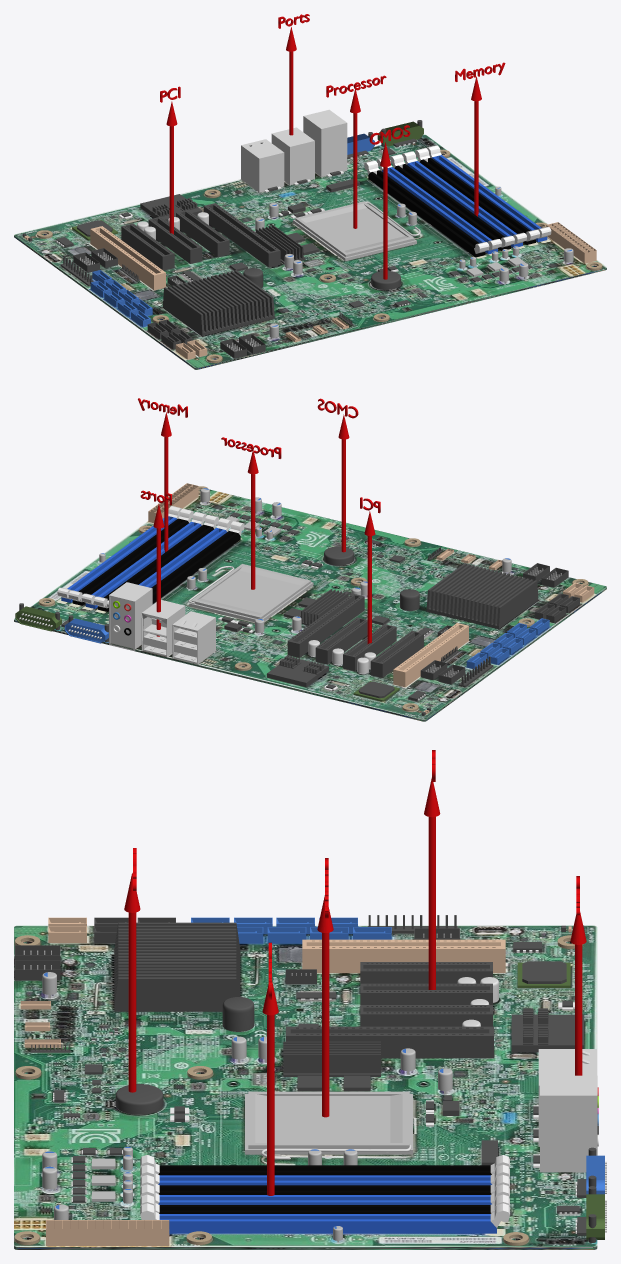
File: motherboard 1.fbx
3 views of the same model, one above another, from view 1: azimuth 30°, elevation 25°; view 2: azimuth 150°, elevation 25°; view 3: azimuth 270°, elevation 25° (orthographic). The views are drawn at different scales.
Visible parts, largest first — view 1: Box001, Box015, Box150, Box093, Box113, Box082, Box069, Box065, Box073, Box114, Box115, Box117 (+15 smaller); view 2: Box001, Box015, Box150, Box093, Box082, Box069, Box065, Box073, Box113, Box115, Box117, Box114 (+16 smaller); view 3: Box001, Box015, Box150, Box118, Box093, Box065, Box069, Box116, Box113, Box117, Box114, Box115 (+21 smaller).
Boxes of the visible parts, x1=… form: Box001: x1=14, y1=134, x2=606, y2=369; Box015: x1=163, y1=270, x2=274, y2=335; Box150: x1=293, y1=201, x2=416, y2=261; Box093: x1=303, y1=109, x2=347, y2=176; Box113: x1=364, y1=160, x2=489, y2=257; Box082: x1=241, y1=139, x2=284, y2=192; Box069: x1=203, y1=203, x2=280, y2=267; Box065: x1=90, y1=226, x2=165, y2=290; Box073: x1=271, y1=127, x2=314, y2=184; Box114: x1=390, y1=154, x2=514, y2=251; Box115: x1=415, y1=148, x2=539, y2=244; Box117: x1=402, y1=151, x2=526, y2=247; Box001: x1=14, y1=489, x2=606, y2=721; Box015: x1=426, y1=563, x2=538, y2=628; Box150: x1=189, y1=564, x2=313, y2=622; Box093: x1=109, y1=582, x2=152, y2=651; Box082: x1=172, y1=611, x2=215, y2=664; Box069: x1=287, y1=593, x2=364, y2=657; Box065: x1=393, y1=623, x2=468, y2=687; Box073: x1=141, y1=600, x2=185, y2=657; Box113: x1=151, y1=521, x2=244, y2=603; Box115: x1=68, y1=508, x2=193, y2=605; Box117: x1=81, y1=512, x2=206, y2=608; Box114: x1=94, y1=515, x2=218, y2=611; Box001: x1=14, y1=925, x2=597, y2=1249; Box015: x1=114, y1=922, x2=240, y2=1011; Box150: x1=245, y1=1091, x2=412, y2=1154; Box118: x1=140, y1=1203, x2=509, y2=1233; Box093: x1=540, y1=1075, x2=597, y2=1172; Box065: x1=302, y1=939, x2=505, y2=972; Box069: x1=286, y1=1026, x2=493, y2=1058; Box116: x1=140, y1=1165, x2=509, y2=1185; Box113: x1=140, y1=1155, x2=509, y2=1175; Box117: x1=140, y1=1184, x2=509, y2=1204; Box114: x1=140, y1=1175, x2=509, y2=1194; Box115: x1=140, y1=1194, x2=509, y2=1213.
Bounding box in the file's own units: 421 × 156 × 328.
